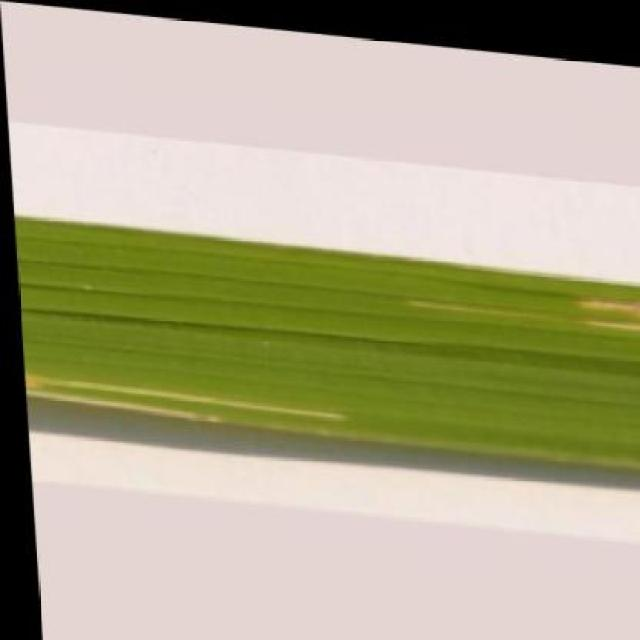Brown_Spot: (11, 206, 640, 460)
